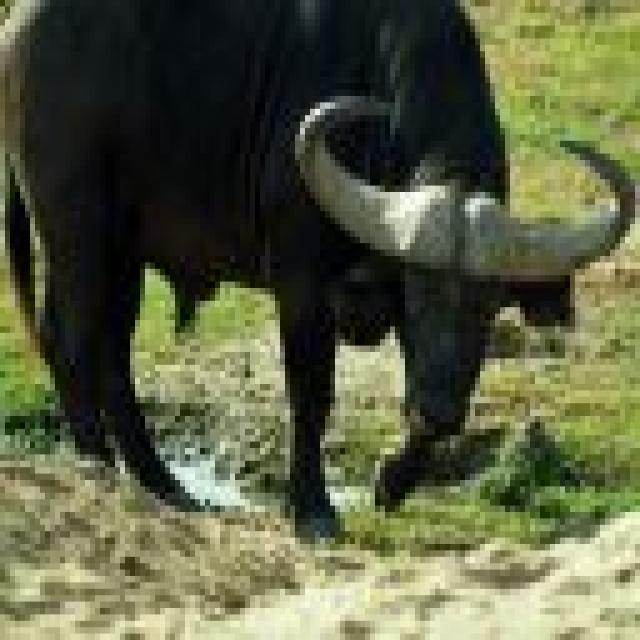buffalo: (0, 0, 634, 546)
